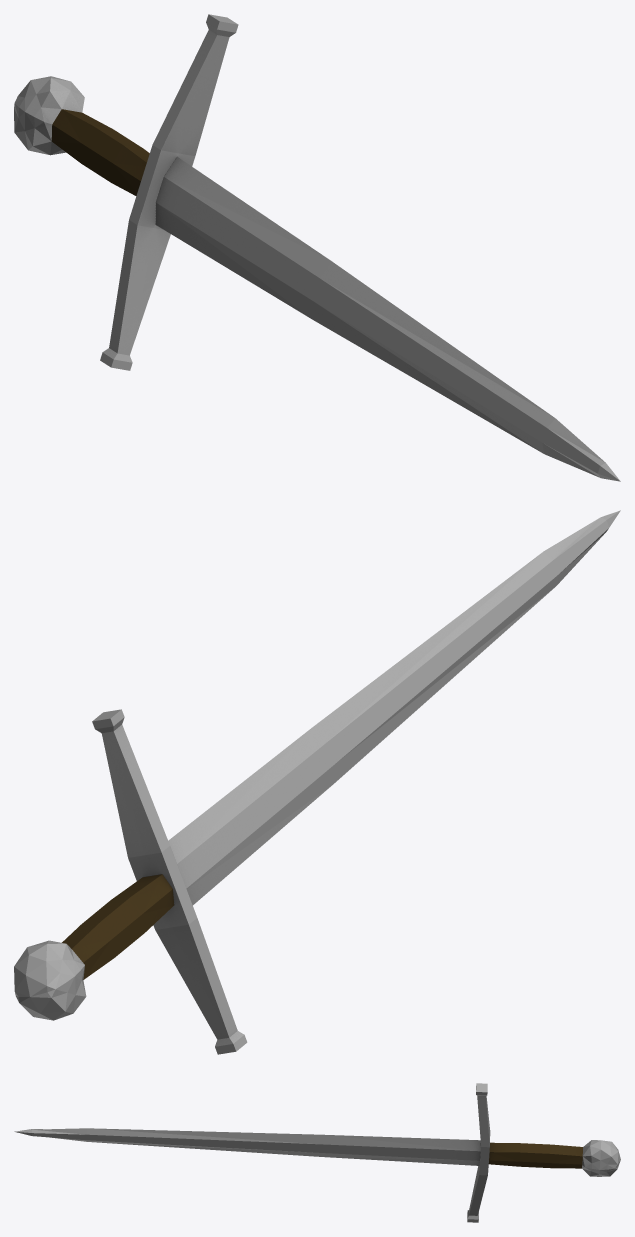
Rendered from simpSword.fbx.
3 renders of one model, top to bottom at view 1: azimuth 30°, elevation 25°; view 2: azimuth 150°, elevation 25°; view 3: azimuth 270°, elevation 25°, orthographic. The views are drawn at different scales.
Parts seen in each view (by area): view 1: sword1:Mesh; view 2: sword1:Mesh; view 3: sword1:Mesh.
Part boxes in pixels (bbox=[...]): sword1:Mesh: bbox=[14, 14, 620, 481]; sword1:Mesh: bbox=[14, 510, 620, 1054]; sword1:Mesh: bbox=[14, 1083, 620, 1222].
Bounding box in the file's own units: 0.2719 × 0.6116 × 2.05.
